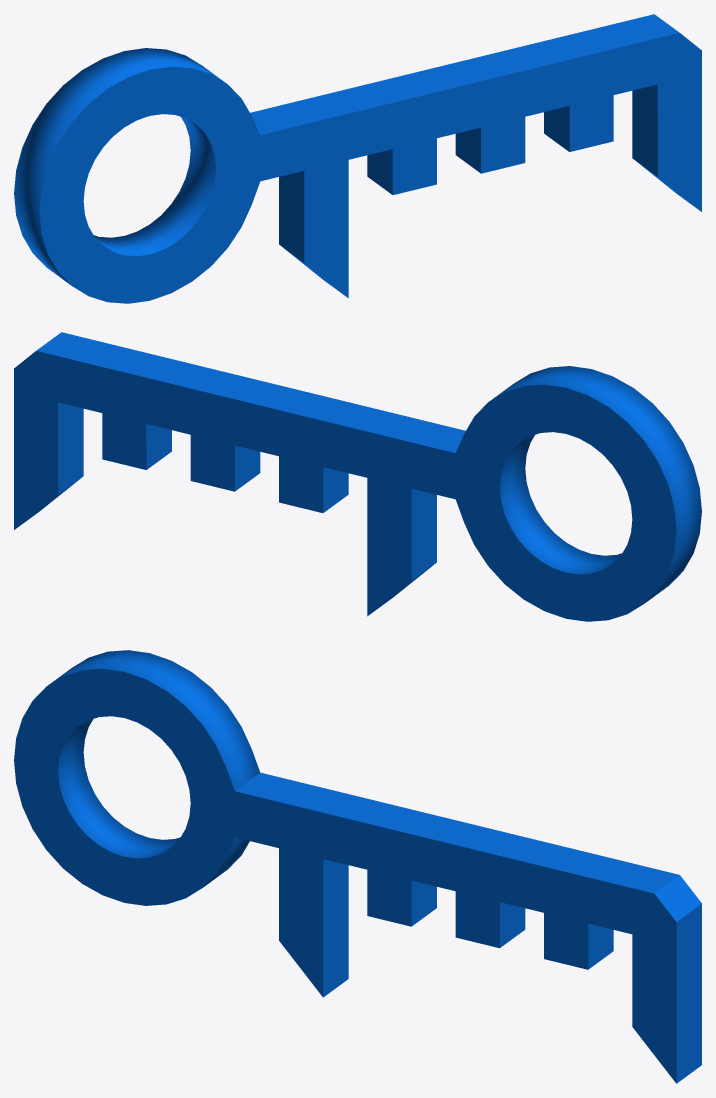
Rendered from Items.fbx_Key_20.fbx.
3 views of the same model, one above another, from view 1: azimuth 30°, elevation 25°; view 2: azimuth 150°, elevation 25°; view 3: azimuth 330°, elevation 25° (orthographic).
Visible parts, largest first — view 1: Key 20; view 2: Key 20; view 3: Key 20.
Boxes of the visible parts, x1=… form: Key 20: x1=14, y1=14, x2=701, y2=303; Key 20: x1=14, y1=332, x2=701, y2=621; Key 20: x1=14, y1=650, x2=701, y2=1083.
Size of the model in its own units: 30 by 12 by 2.
